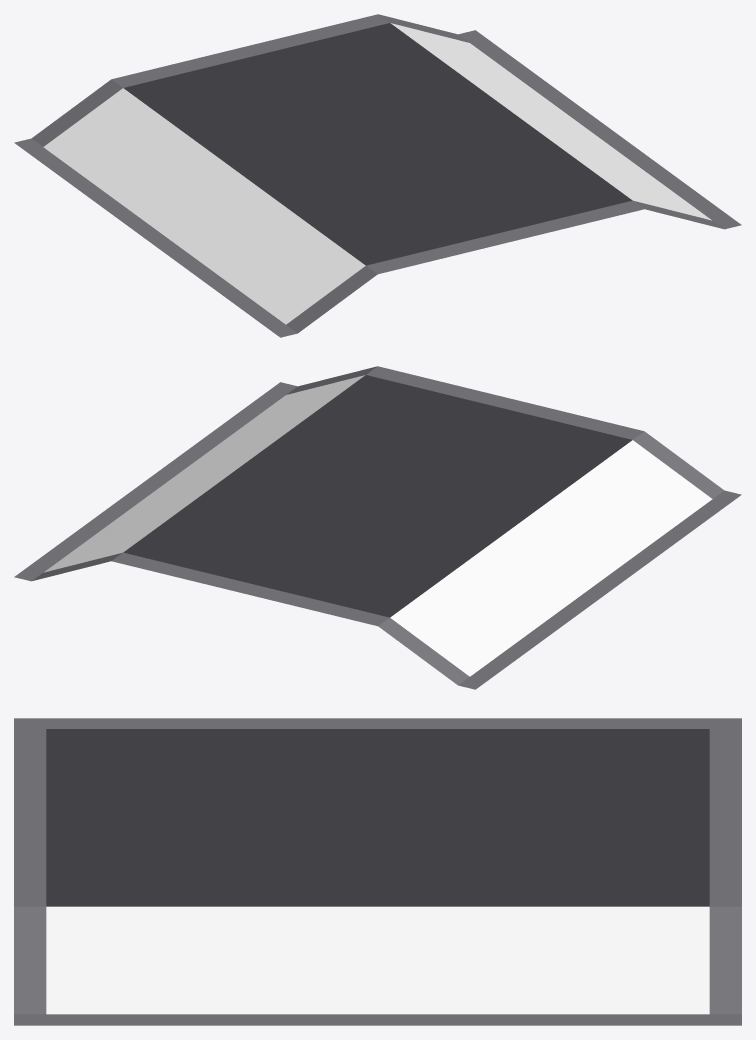
File: Ceiling.fbx
3 views of the same model, one above another, from view 1: azimuth 30°, elevation 25°; view 2: azimuth 150°, elevation 25°; view 3: azimuth 270°, elevation 25° (orthographic). The views are drawn at different scales.
Parts seen in each view (by area): view 1: Ceiling; view 2: Ceiling; view 3: Ceiling.
Part boxes in pixels (x1,y1,x2,y2): Ceiling: (14, 14, 741, 337); Ceiling: (14, 366, 741, 689); Ceiling: (14, 718, 741, 1025).
Size of the model in its own units: 200 by 16.42 by 200.
